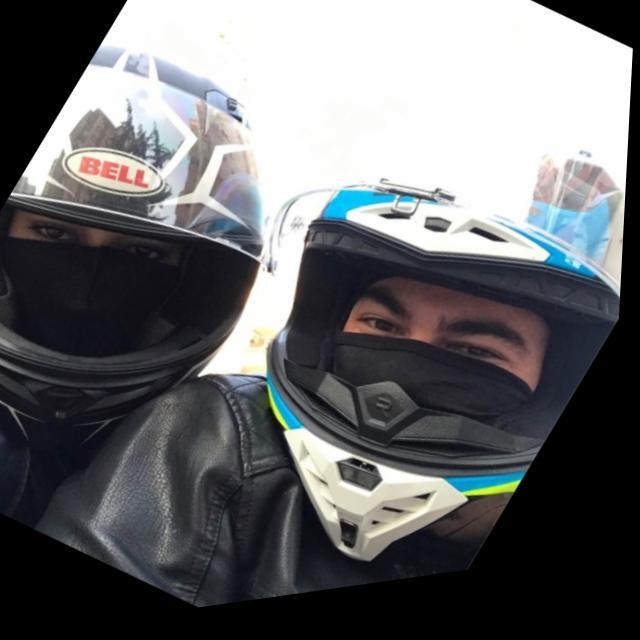Helmet: (255, 142, 619, 564), (0, 39, 264, 478)
